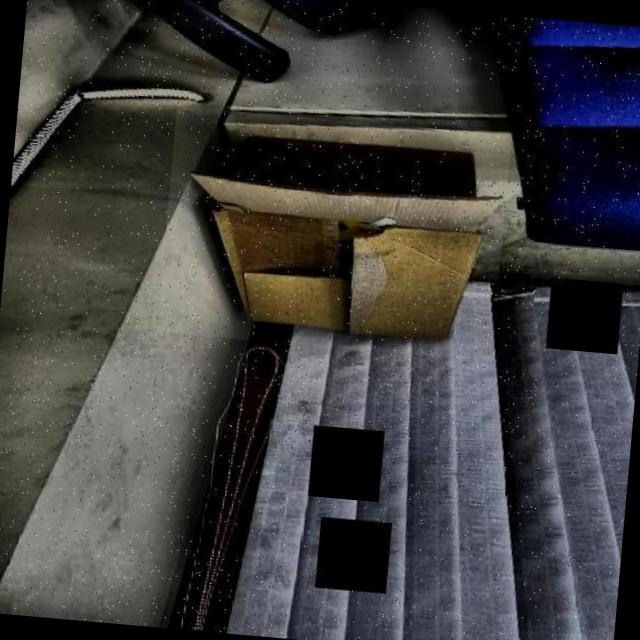box: (156, 106, 511, 361)
